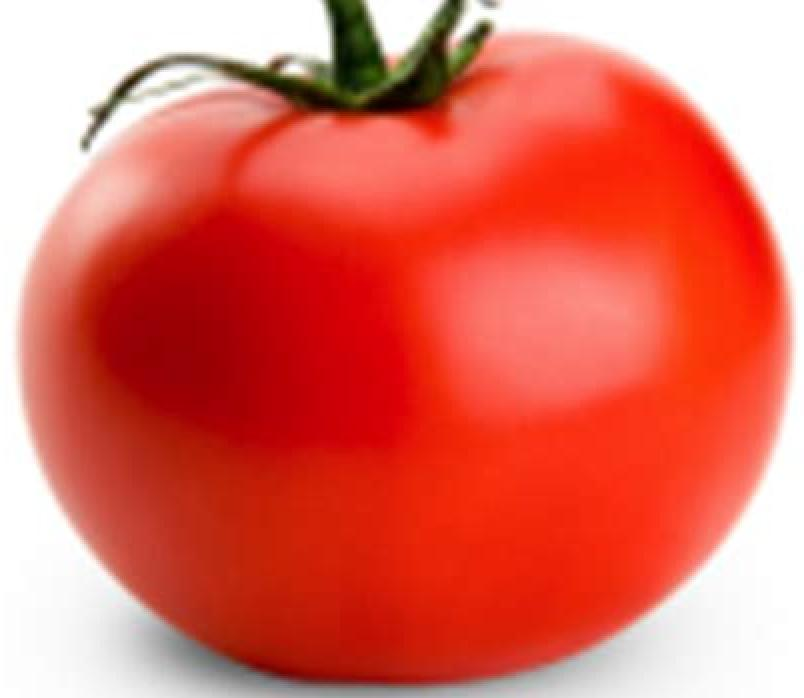tomato: (25, 29, 777, 685)
